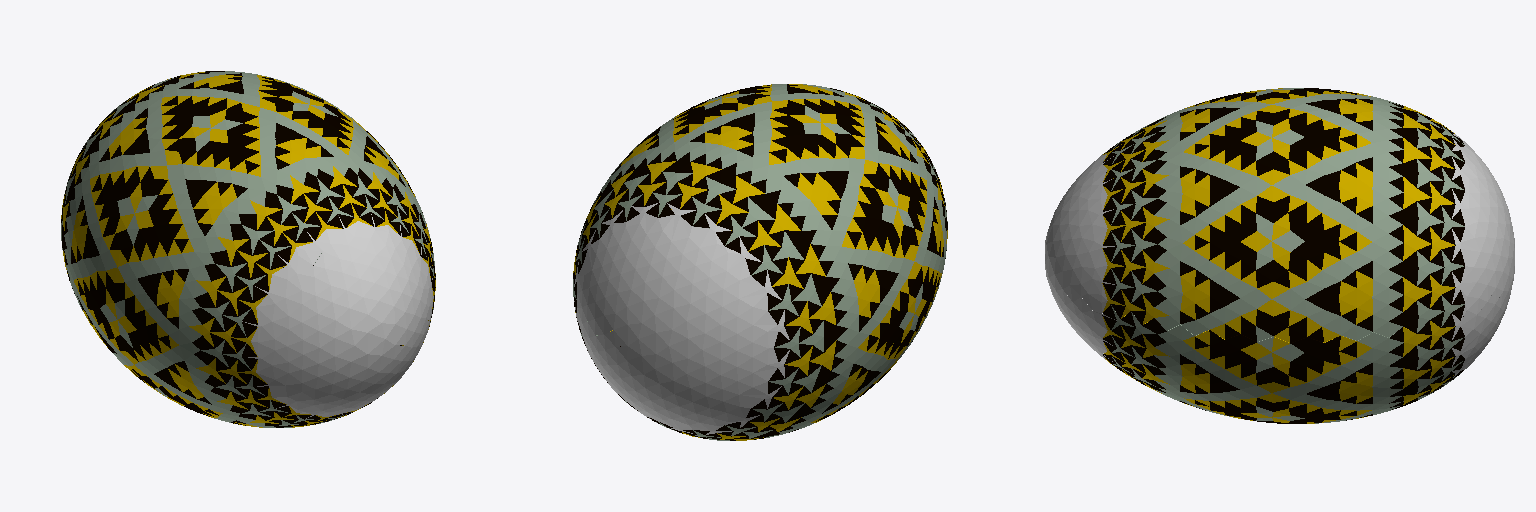
The picture shows the model from 3 angles: view 1: azimuth 30°, elevation 25°; view 2: azimuth 150°, elevation 25°; view 3: azimuth 270°, elevation 25°; orthographic projection.
Parts seen in each view (by area): view 1: BARREL, POINT; view 2: BARREL, END; view 3: BARREL, END, POINT.
Boxes of the visible parts, x1=… form: BARREL: x1=61, y1=71, x2=435, y2=427; POINT: x1=242, y1=214, x2=433, y2=418; BARREL: x1=573, y1=84, x2=947, y2=440; END: x1=574, y1=202, x2=789, y2=434; BARREL: x1=1102, y1=88, x2=1464, y2=423; END: x1=1452, y1=132, x2=1514, y2=377; POINT: x1=1045, y1=149, x2=1116, y2=361.
Bounding box in the file's own units: 9.17 × 9.18 × 12.82.
Materials: 3 (1 with a texture image).